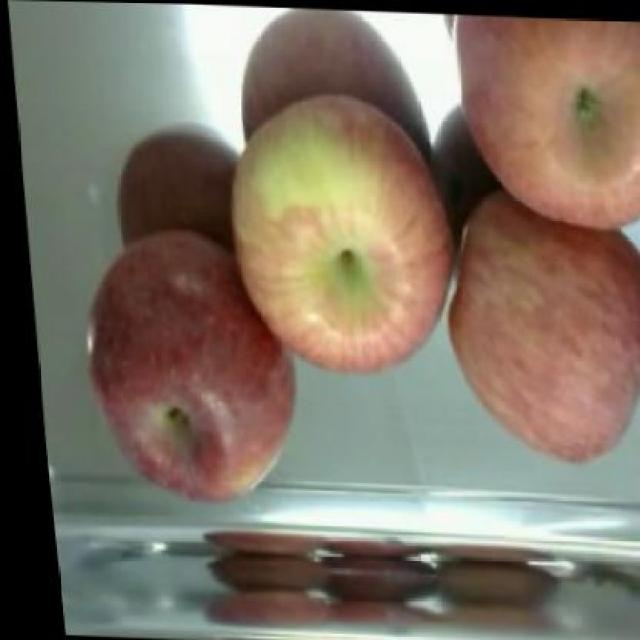Fresh Apple: (229, 103, 440, 354), (82, 246, 283, 491), (435, 208, 640, 448), (447, 27, 640, 223)
